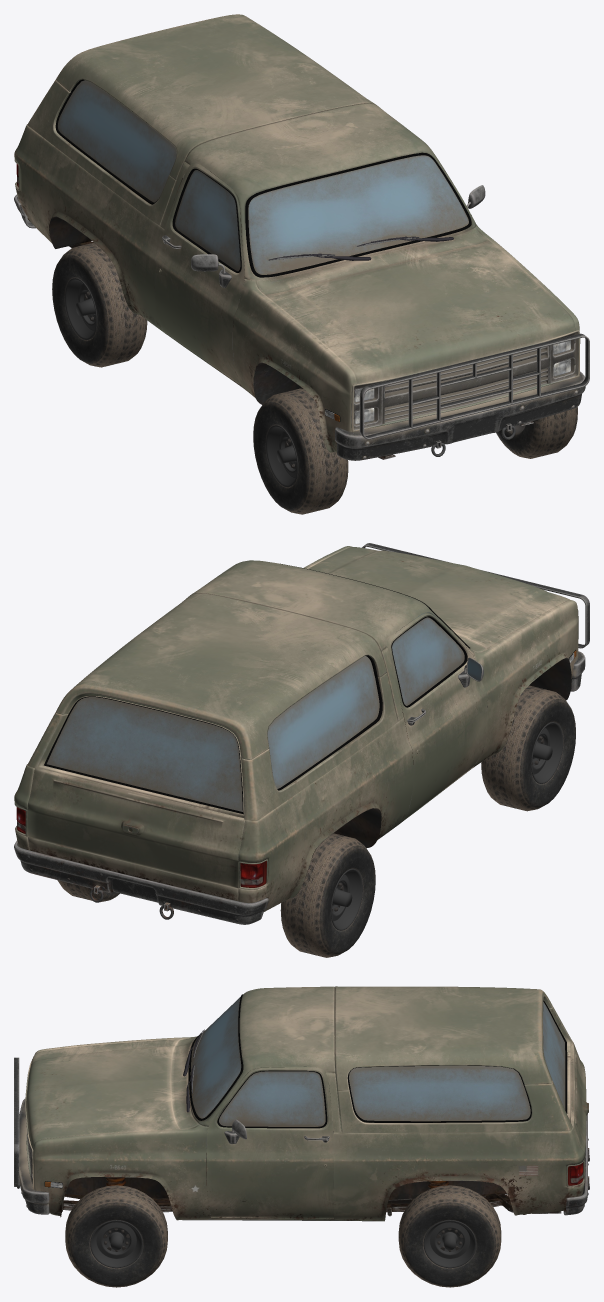
3 renders of one model, top to bottom at view 1: azimuth 30°, elevation 25°; view 2: azimuth 150°, elevation 25°; view 3: azimuth 270°, elevation 25°, orthographic. The views are drawn at different scales.
Parts seen in each view (by area): view 1: Object_6, Object_13, Object_7, Object_12, Object_10, Object_11, Object_9, Object_5, Object_8; view 2: Object_6, Object_7, Object_13, Object_12, Object_10, Object_9, Object_5, Object_8, Object_11; view 3: Object_6, Object_7, Object_13, Object_12, Object_5, Object_9, Object_11, Object_10, Object_8.
Boxes of the visible parts, x1,y1,x2,y2 form: Object_6: (27,14,580,452); Object_13: (58,80,468,274); Object_7: (14,124,579,431); Object_12: (52,242,577,514); Object_10: (14,177,589,458); Object_11: (162,185,585,460); Object_9: (55,79,471,421); Object_5: (27,171,533,459); Object_8: (16,164,570,423); Object_6: (27,546,578,833); Object_7: (14,612,487,911); Object_13: (47,612,481,811); Object_12: (57,685,575,957); Object_10: (14,543,589,924); Object_9: (44,563,575,814); Object_5: (242,647,571,900); Object_8: (16,650,576,887); Object_11: (94,626,585,911); Object_6: (26,986,588,1220); Object_7: (25,1036,587,1221); Object_13: (191,997,565,1126); Object_12: (65,1185,501,1287); Object_5: (62,1122,561,1221); Object_9: (44,994,567,1188); Object_11: (19,1099,589,1214); Object_10: (14,1057,589,1215); Object_8: (45,1162,583,1187).
Size of the model in its own units: 2.01 by 1.73 by 4.12.
